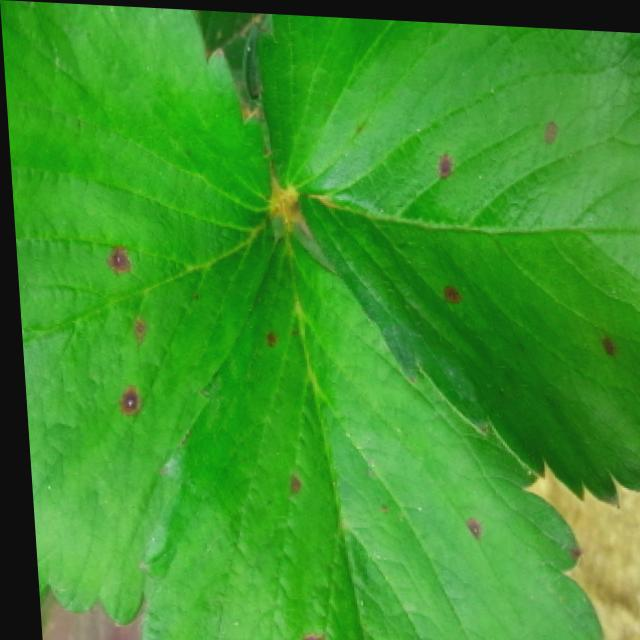Leaf Spot: (128, 222, 599, 640), (242, 11, 640, 502), (0, 0, 279, 626)
